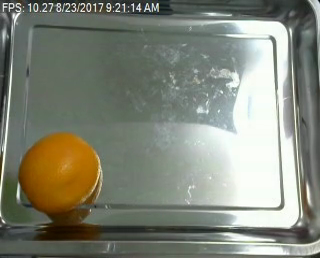Orange: (19, 131, 101, 214)
